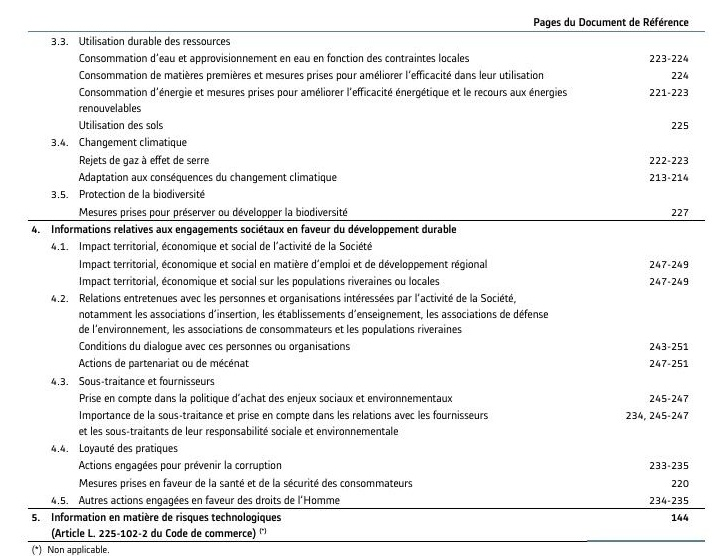table: (0, 0, 725, 556)
